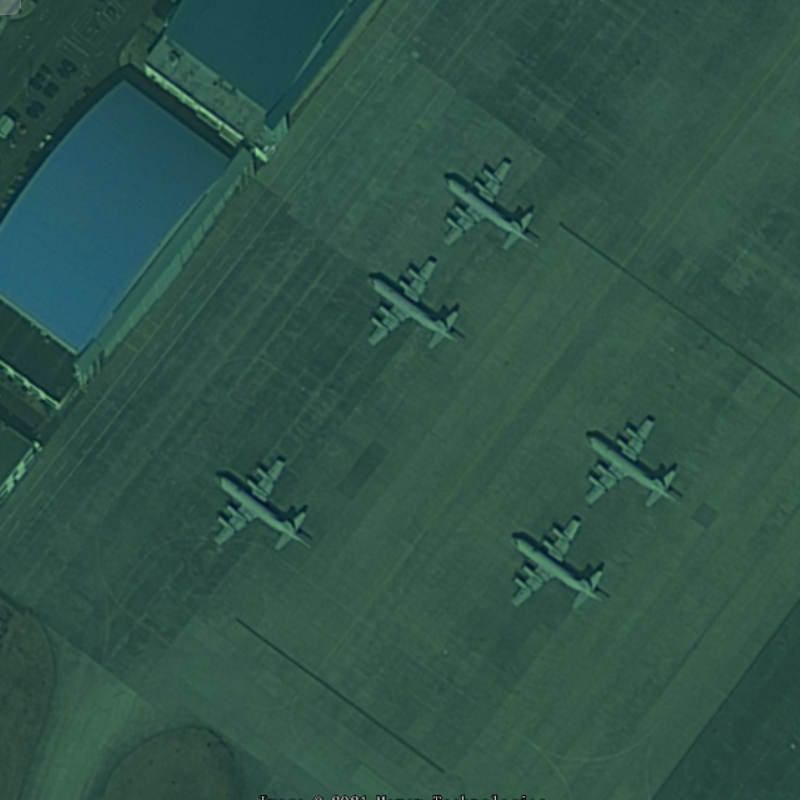A9: (497, 511, 613, 624), (203, 450, 317, 559), (434, 150, 540, 255), (359, 254, 467, 356), (577, 411, 682, 513)
